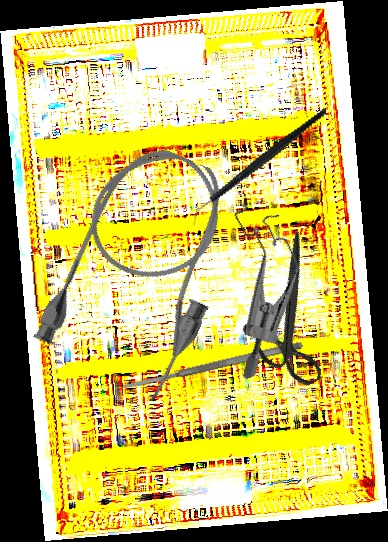Cannula: (28, 130, 259, 408)
Chopper: (170, 107, 348, 227)
Iris Scissors: (216, 231, 368, 400)
Spatula Surgical: (119, 340, 304, 392)
Speculum: (178, 191, 337, 381)
